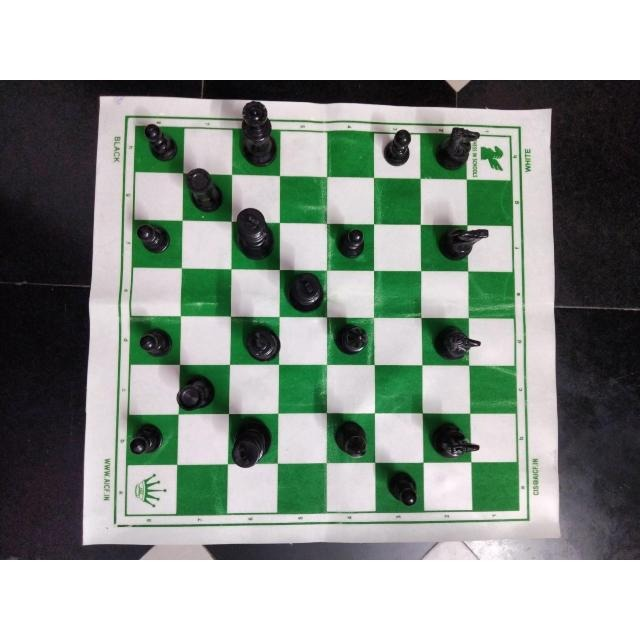black-bishop: (329, 414, 375, 462), (331, 319, 370, 359)
black-king: (233, 205, 279, 263), (228, 417, 272, 470), (284, 268, 326, 315), (241, 322, 284, 365)
black-knight: (428, 421, 484, 465), (434, 221, 492, 263), (435, 123, 483, 173), (428, 321, 483, 359)
black-pawn: (124, 424, 171, 462), (140, 121, 180, 165), (381, 471, 424, 511), (380, 127, 416, 171), (134, 221, 176, 257), (135, 327, 179, 361), (333, 226, 372, 263)
black-queen: (229, 98, 281, 167)
black-rook: (181, 168, 225, 215), (173, 372, 219, 414)
